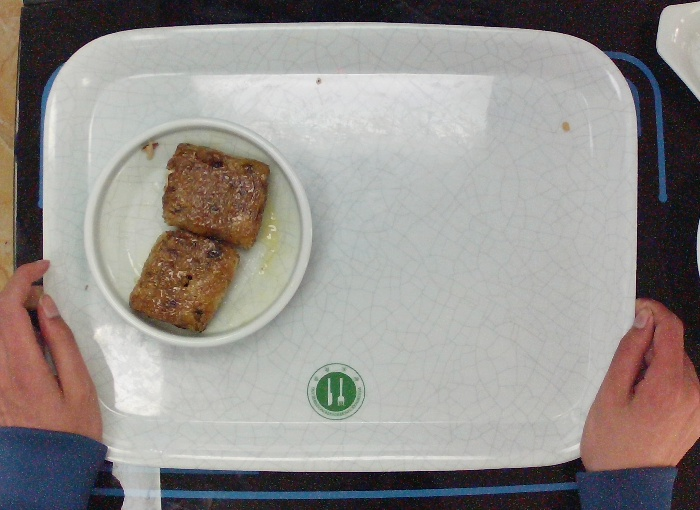JYsf-Xiao_Yuan_Pan: (77, 116, 316, 353)
